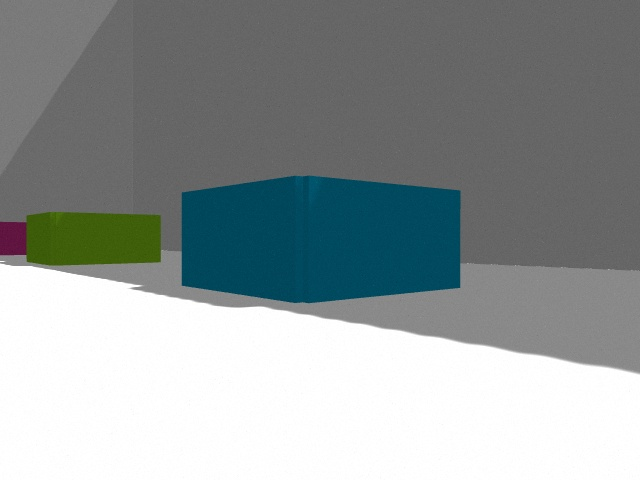blue_drop_zone: (182, 176, 461, 303)
green_drop_zone: (26, 212, 161, 266)
red_drop_zone: (0, 222, 26, 255)
